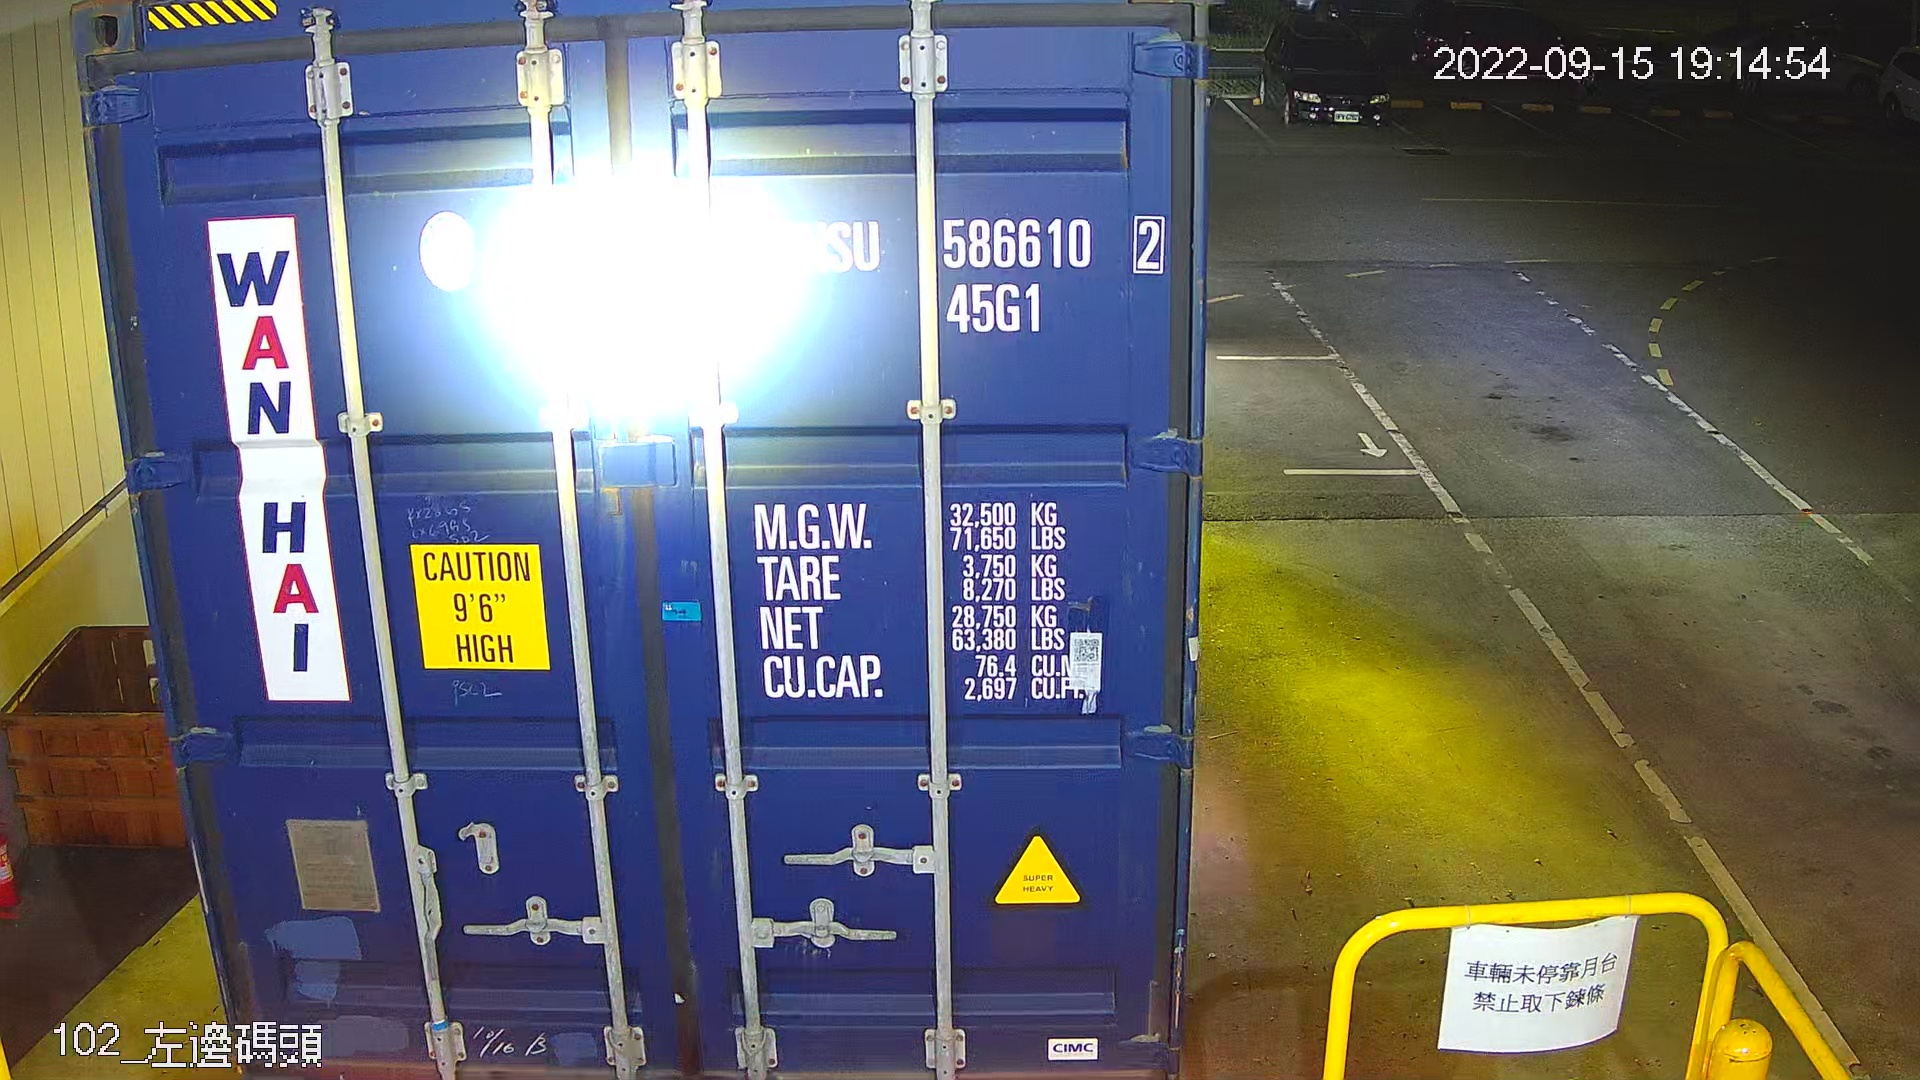container: (742, 196, 1176, 345)
